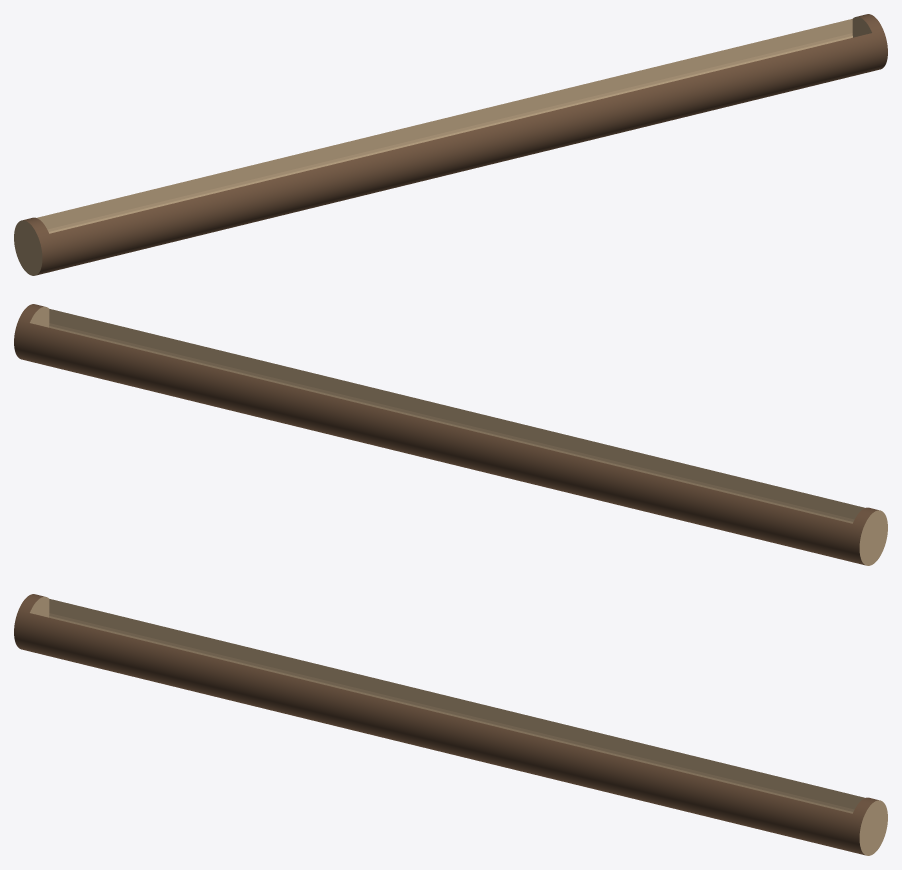
The model's file is SM_RawLog_600_Trough.fbx.
3 renders of one model, top to bottom at view 1: azimuth 30°, elevation 25°; view 2: azimuth 150°, elevation 25°; view 3: azimuth 330°, elevation 25°, orthographic.
Visible parts, largest first — view 1: RawLog_600_Trough; view 2: RawLog_600_Trough; view 3: RawLog_600_Trough.
Part boxes in pixels (x1=…): RawLog_600_Trough: x1=14, y1=14, x2=887, y2=275; RawLog_600_Trough: x1=14, y1=304, x2=887, y2=565; RawLog_600_Trough: x1=14, y1=594, x2=887, y2=855.
Size of what is drawn, in the model's own units: 6 by 0.35 by 0.35.
